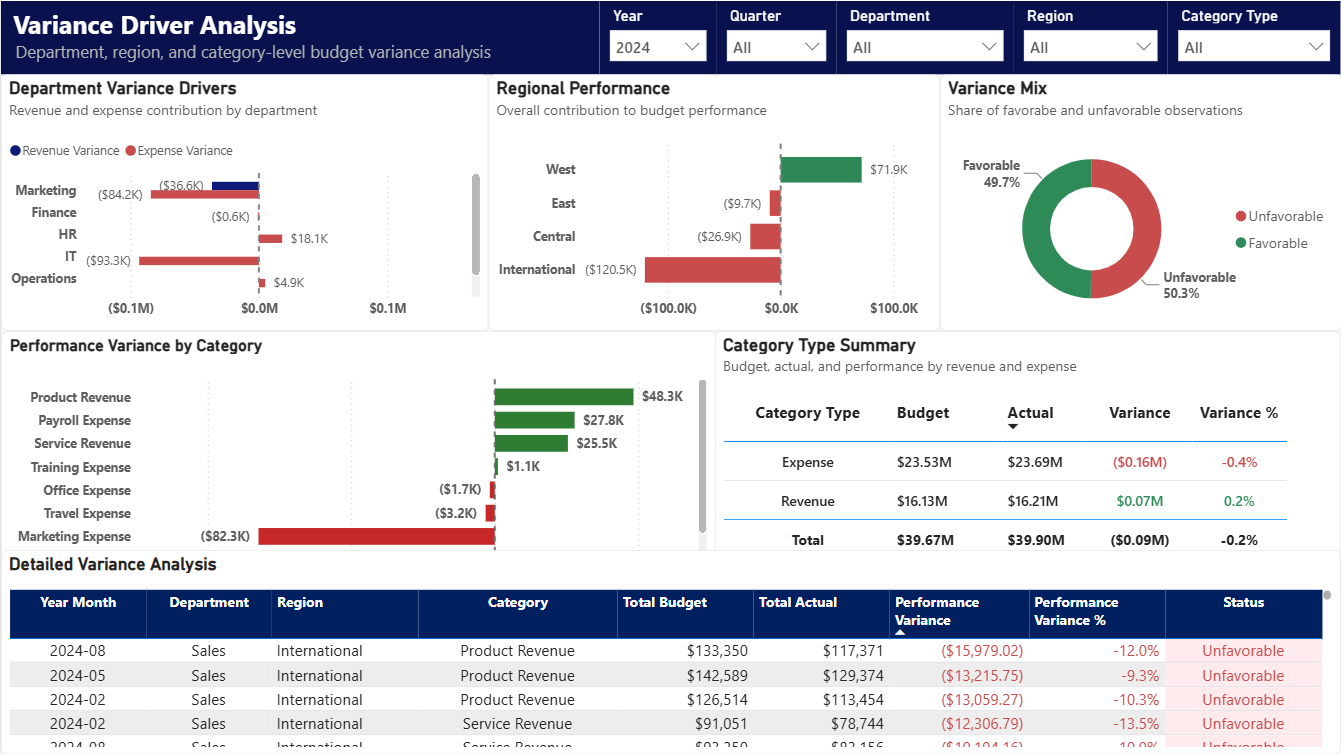

Layout of this report page (visuals, bound fields, positions):
{"tool":"powerbi","page":{"name":"Variance Drivers","canvas":[1280,720],"ordinal":1},"visuals":[{"type":"textbox","box":[0,0,571.5,70.2],"z":0},{"type":"slicer","fields":{"Values":["Dim Calendar.Quarter"]},"box":[683.3,0,114.6,70.2],"z":1000},{"type":"slicer","fields":{"Values":["Dim Calendar.Year"]},"box":[571.5,0,111.7,70.2],"z":2000},{"type":"slicer","fields":{"Values":["Fact Variance.department_name"]},"box":[797.8,0,169,70.2],"z":3000},{"type":"slicer","fields":{"Values":["Fact Variance.region_name"]},"box":[966.9,0,147.5,70.2],"z":4000},{"type":"slicer","fields":{"Values":["Fact Variance.category_type"]},"box":[1114.4,0,164.7,70.2],"z":5000},{"type":"clusteredBarChart","title":"Department Variance Drivers","fields":{"Category":["Fact Variance.department_name"],"Y":["_Measures.Revenue Variance","_Measures.Expense Variance"]},"box":[0,70.2,465.5,244.9],"z":6000},{"type":"barChart","title":"Regional Performance","fields":{"Category":["Fact Variance.region_name"],"Y":["_Measures.Performance Variance"]},"box":[465.5,70.2,431.1,244.9],"z":7000},{"type":"donutChart","title":"Variance Mix","fields":{"Category":["Fact Variance.variance_flag"],"Y":["_Measures.Total Variance Item"]},"box":[896.7,70.2,383.9,244.9],"z":8000},{"type":"clusteredBarChart","title":"Performance Variance by Category","fields":{"Category":["Fact Variance.category_name"],"Y":["_Measures.Performance Variance"]},"box":[0,315.1,683.3,247.8],"z":9000},{"type":"tableEx","title":"Category Type Summary","fields":{"Values":["Fact Variance.category_type","_Measures.Total Budget","_Measures.Total Actual","_Measures.Performance Variance","_Measures.Performance Variance %"]},"box":[681.8,315.1,597.3,247.8],"z":10000},{"type":"tableEx","title":"Detailed Variance Analysis","fields":{"Values":["Dim Calendar.Year Month","Fact Variance.department_name","Fact Variance.region_name","Fact Variance.category_name","_Measures.Total Budget","_Measures.Total Actual","_Measures.Performance Variance","_Measures.Performance Variance %","Fact Variance.variance_flag"]},"box":[0,524.3,1279.1,196.2],"z":11000}]}

Visuals, with their boxes in screenshot pixels (x1, y1, x2, y2), scaled from the page's 1280x720 canvas onto the 1341x754 screenshot:
textbox: (0, 0, 599, 74)
slicer - Dim Calendar.Quarter: (716, 0, 836, 74)
slicer - Dim Calendar.Year: (599, 0, 716, 74)
slicer - Fact Variance.department_name: (836, 0, 1013, 74)
slicer - Fact Variance.region_name: (1013, 0, 1168, 74)
slicer - Fact Variance.category_type: (1168, 0, 1340, 74)
"Department Variance Drivers" clusteredBarChart: (0, 74, 488, 330)
"Regional Performance" barChart: (488, 74, 939, 330)
"Variance Mix" donutChart: (939, 74, 1340, 330)
"Performance Variance by Category" clusteredBarChart: (0, 330, 716, 589)
"Category Type Summary" tableEx: (714, 330, 1340, 589)
"Detailed Variance Analysis" tableEx: (0, 549, 1340, 753)
